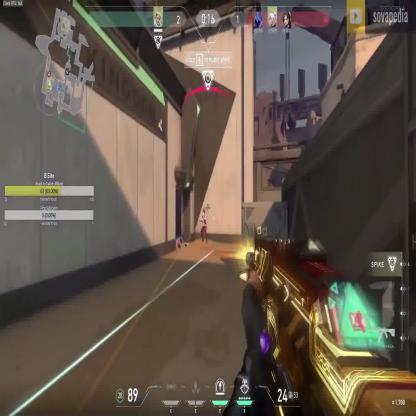enemy: (198, 208, 207, 244)
enemy_head: (202, 209, 206, 217)
